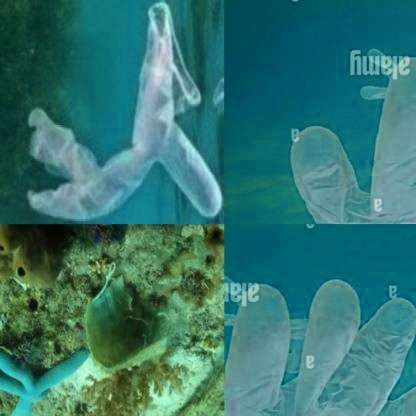Mask: (86, 260, 171, 374)
glove: (24, 1, 222, 222), (224, 272, 416, 416), (289, 44, 415, 224)
